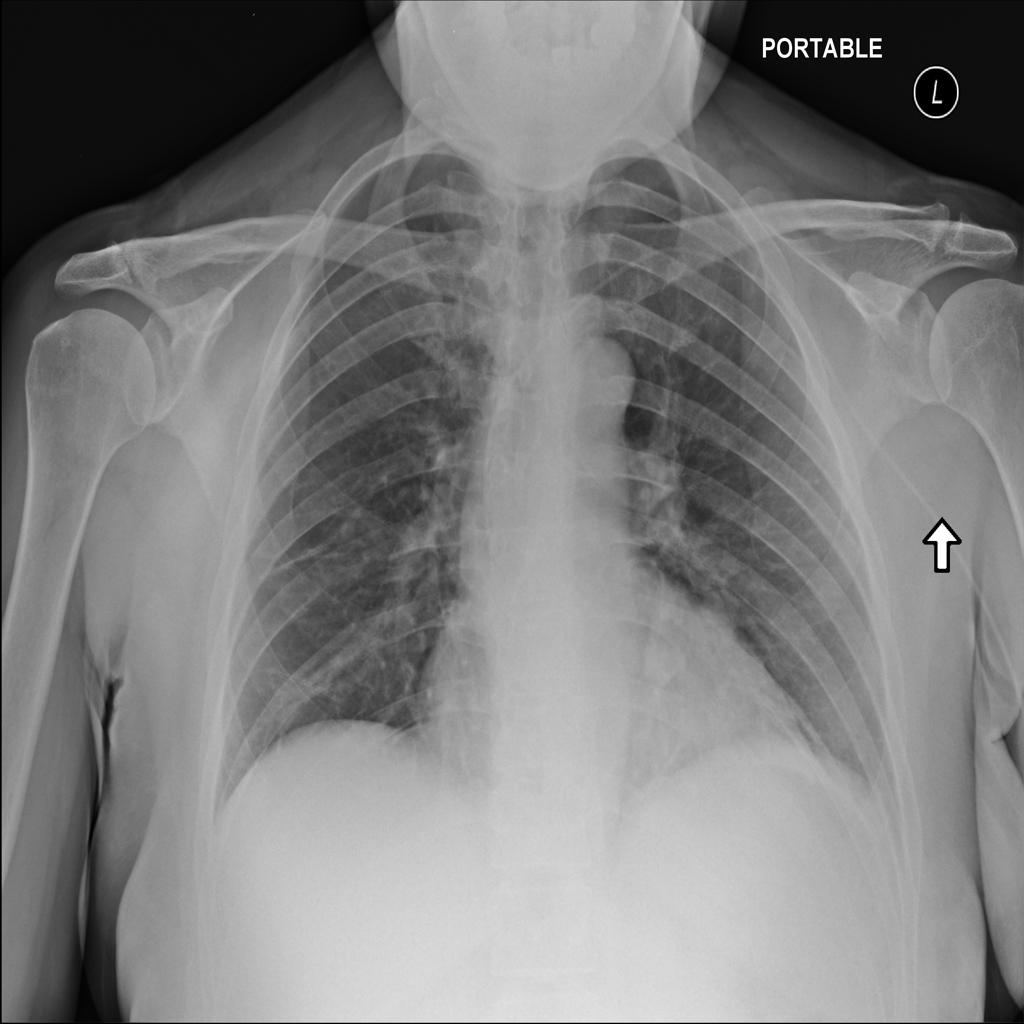nodule: (628, 622, 695, 696)
